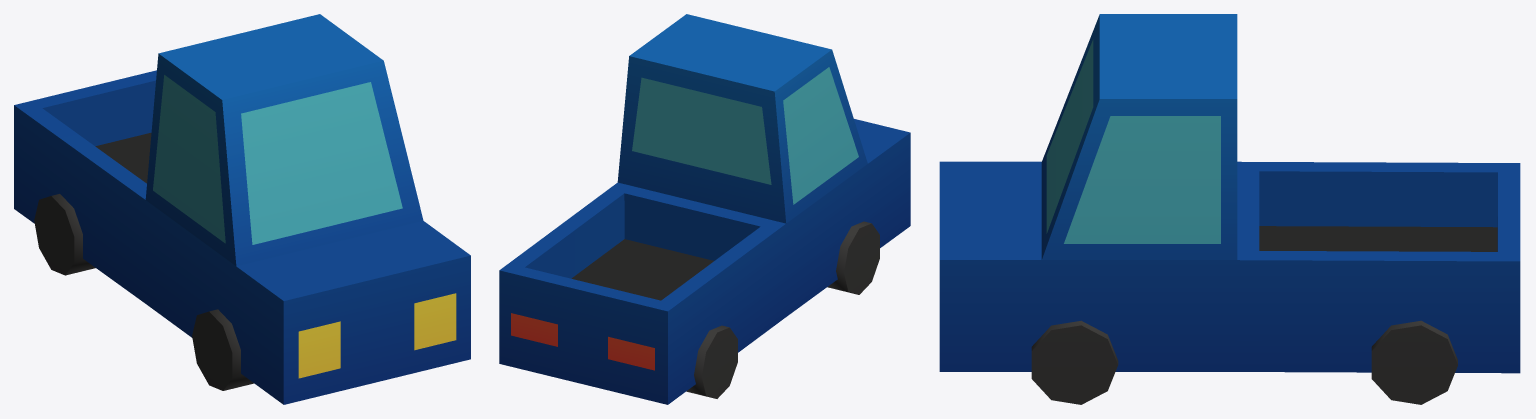
File: Car_1_1.fbx
3 views of the same model, side by side, from view 1: azimuth 30°, elevation 25°; view 2: azimuth 150°, elevation 25°; view 3: azimuth 270°, elevation 25° (orthographic). The views are drawn at different scales.
Visible parts, largest first — view 1: Car_1_1; view 2: Car_1_1; view 3: Car_1_1.
Boxes of the visible parts, bbox=[...] form: Car_1_1: bbox=[14, 14, 470, 404]; Car_1_1: bbox=[499, 14, 910, 404]; Car_1_1: bbox=[939, 14, 1520, 404].
Bounding box in the file's own units: 211 × 270 × 483.
